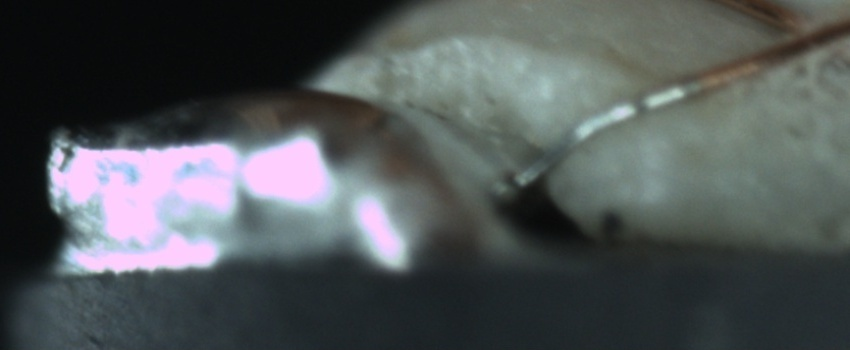TS: (510, 80, 696, 193)
TTCW: (504, 49, 720, 187)
